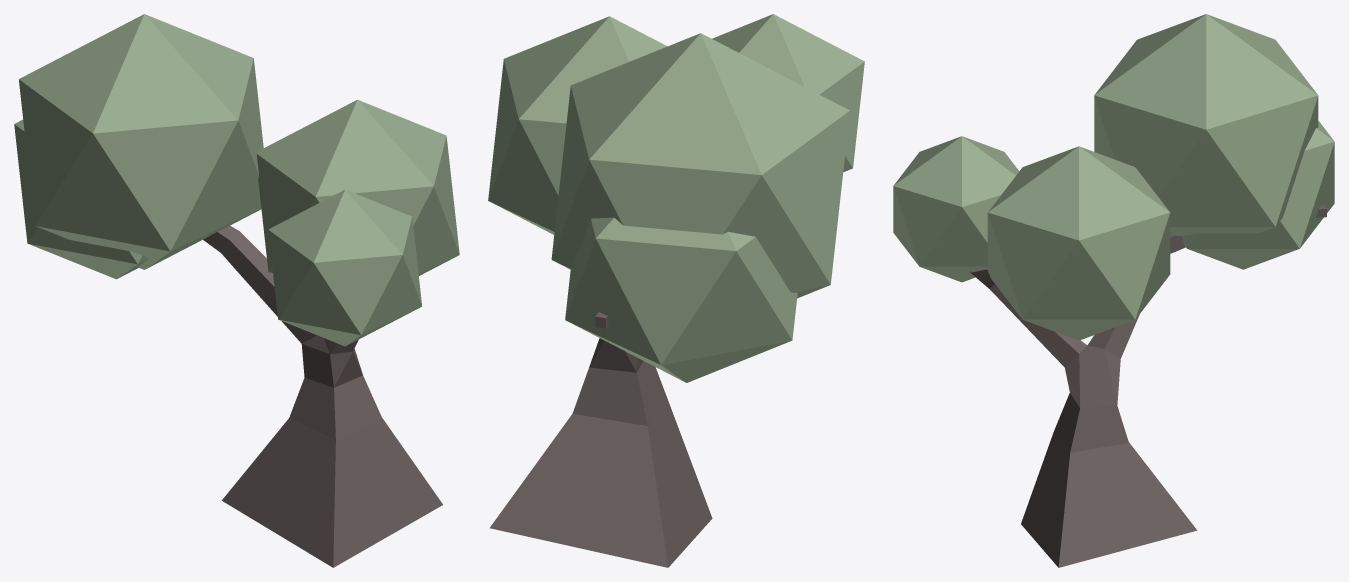
The model's file is pohon-2.glb.
3 views of the same model, side by side, from view 1: azimuth 30°, elevation 25°; view 2: azimuth 150°, elevation 25°; view 3: azimuth 270°, elevation 25° (orthographic). The views are drawn at different scales.
Parts seen in each view (by area): view 1: Icosphere.002, Cube, Icosphere, Icosphere.001, Icosphere.003; view 2: Icosphere.002, Cube, Icosphere.003, Icosphere, Icosphere.001; view 3: Icosphere.002, Icosphere, Cube, Icosphere.001, Icosphere.003.
Boxes of the visible parts, box(x1,y1,x2,y2) form: Icosphere.002: box(18, 14, 263, 269); Cube: box(203, 226, 442, 567); Icosphere: box(256, 99, 459, 275); Icosphere.001: box(268, 189, 422, 346); Icosphere.003: box(14, 119, 148, 279); Icosphere.002: box(551, 33, 849, 298); Cube: box(489, 312, 712, 567); Icosphere.003: box(565, 217, 797, 382); Icosphere: box(488, 16, 667, 234); Icosphere.001: box(712, 14, 864, 171); Icosphere.002: box(1094, 14, 1318, 236); Icosphere: box(987, 146, 1170, 340); Cube: box(969, 205, 1326, 567); Icosphere.001: box(893, 136, 1019, 282); Icosphere.003: box(1182, 121, 1334, 269).
Bounding box in the file's own units: 2.08 × 2.92 × 2.48.
